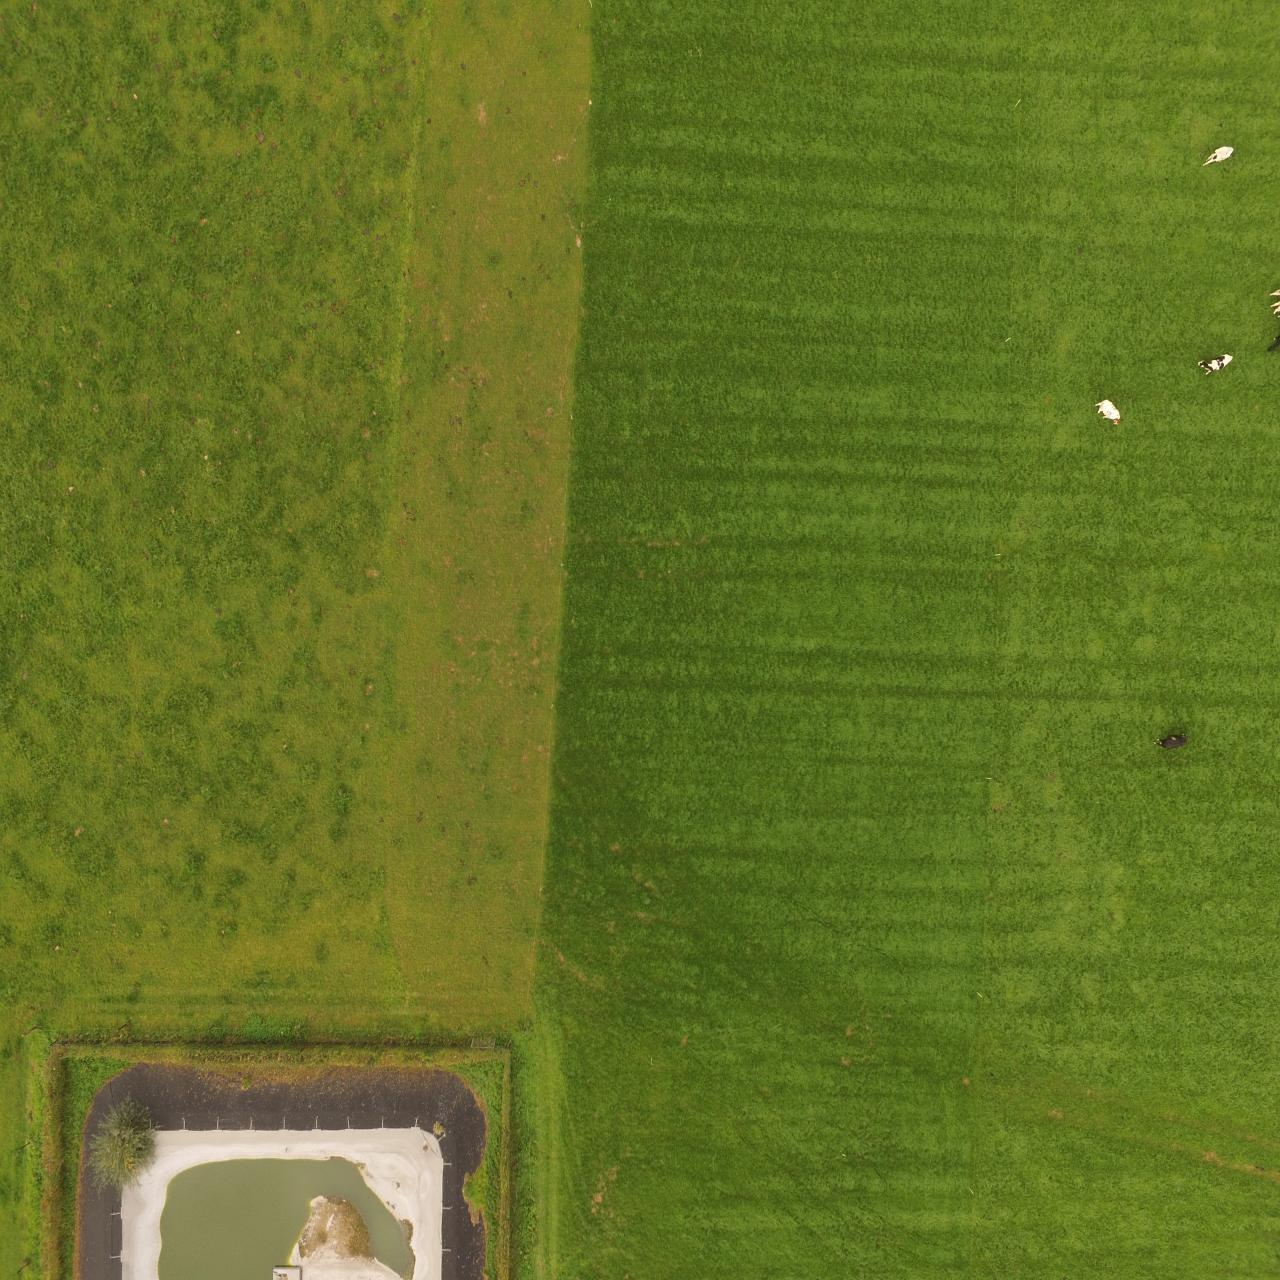cow: (1094, 399, 1124, 429), (1198, 355, 1237, 374), (1158, 733, 1190, 751)
